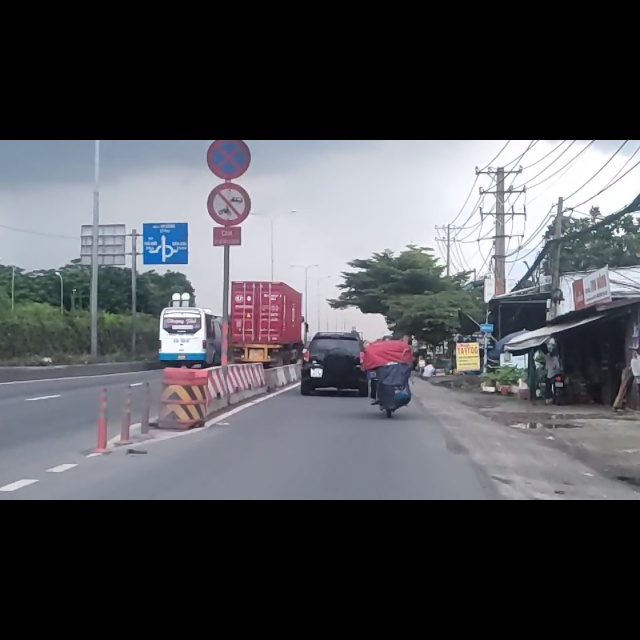bien_chi_dan: (206, 75, 252, 151), (205, 1, 252, 71)
